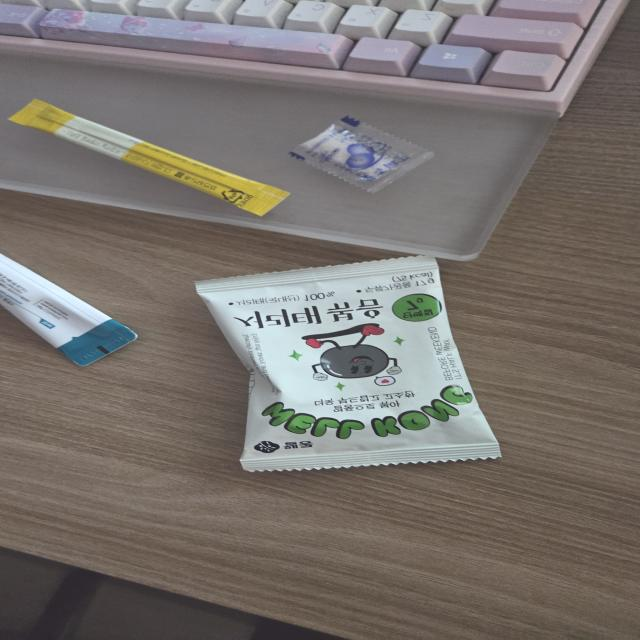lacto: (9, 96, 291, 216)
lib: (2, 238, 137, 385)
salt: (286, 114, 436, 194)
